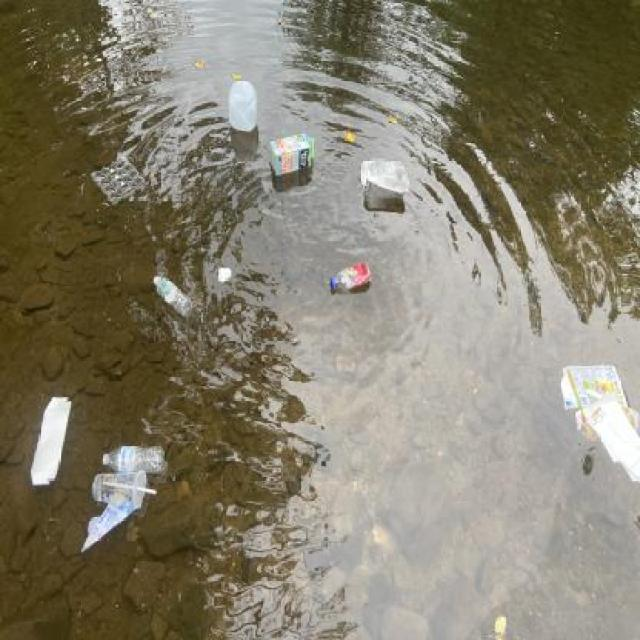Can-Metal: (356, 156, 412, 200)
Cardboard: (557, 362, 640, 484), (27, 392, 77, 490), (267, 132, 319, 178)
Paper: (215, 265, 233, 284)
Plastic: (88, 444, 167, 504), (86, 154, 154, 207), (79, 495, 138, 554), (326, 258, 375, 296), (147, 273, 191, 315), (226, 78, 258, 132)
